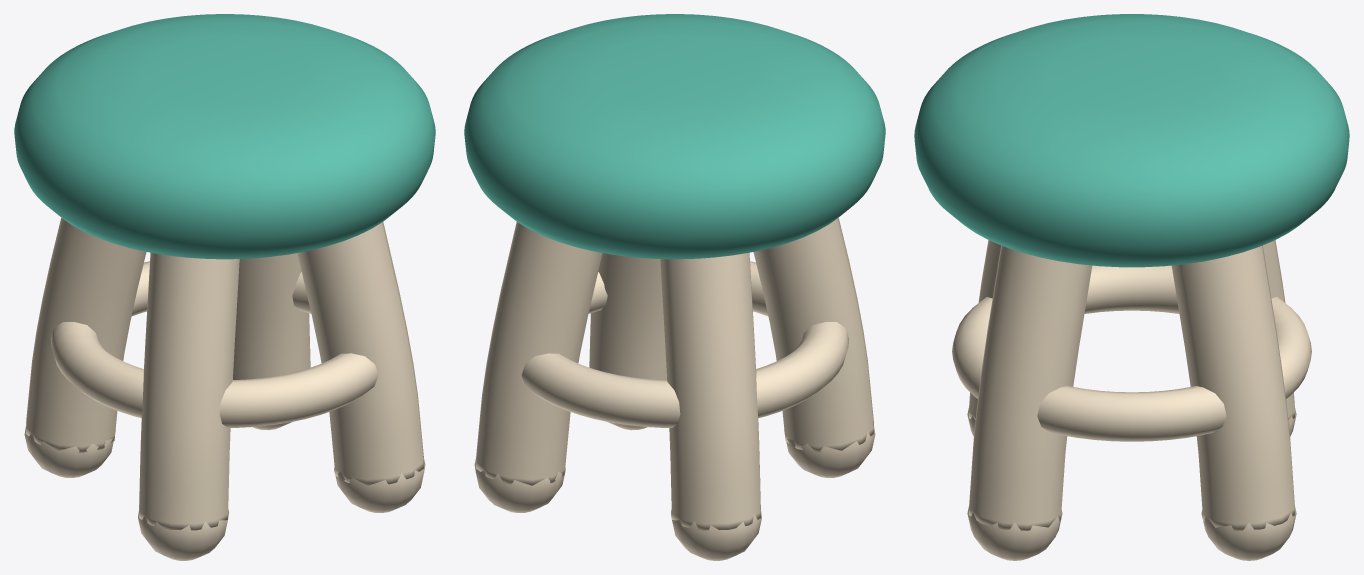
Rendered from stool_a.glb.
3 renders of one model, left to right at view 1: azimuth 30°, elevation 25°; view 2: azimuth 150°, elevation 25°; view 3: azimuth 270°, elevation 25°, orthographic. The views are drawn at different scales.
Visible parts, largest first — view 1: body; view 2: body; view 3: body.
Part boxes in pixels (box(x1,y1,x2,y2)): body: box(14, 14, 435, 560); body: box(464, 14, 885, 560); body: box(914, 14, 1349, 560).
Size of the model in its own units: 0.4208 by 0.4656 by 0.4208.
